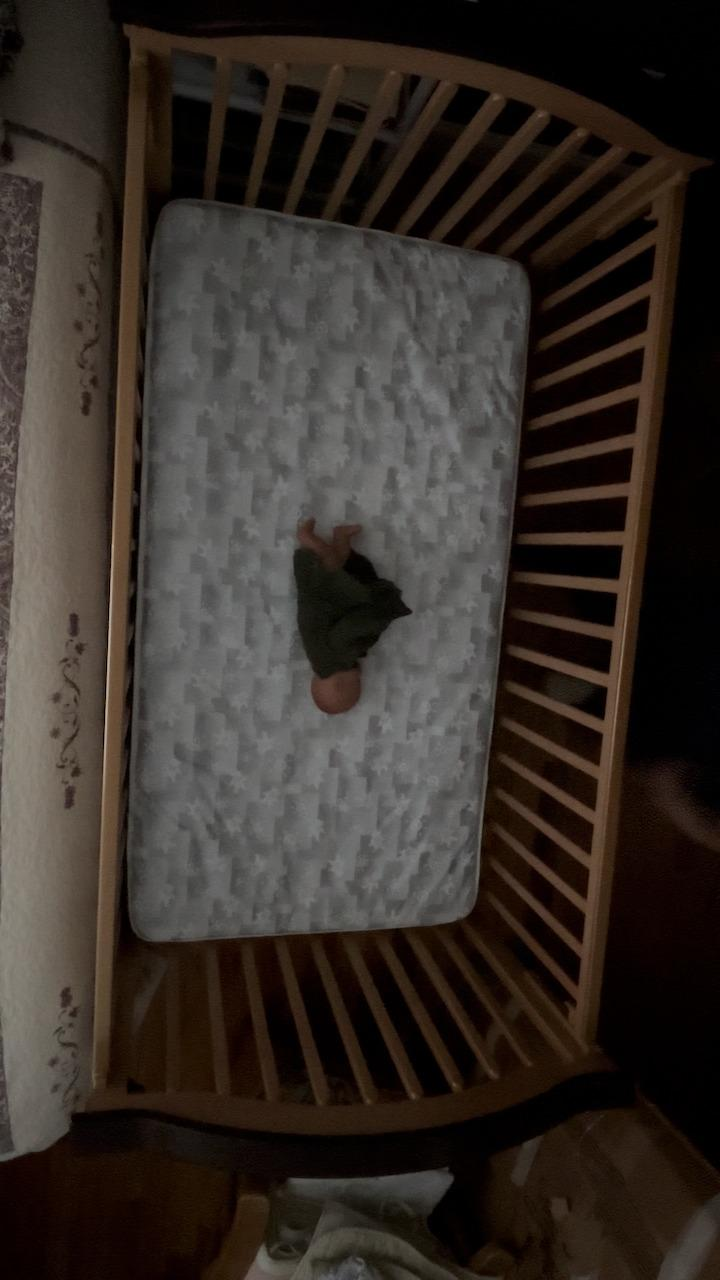baby: (282, 504, 407, 716)
